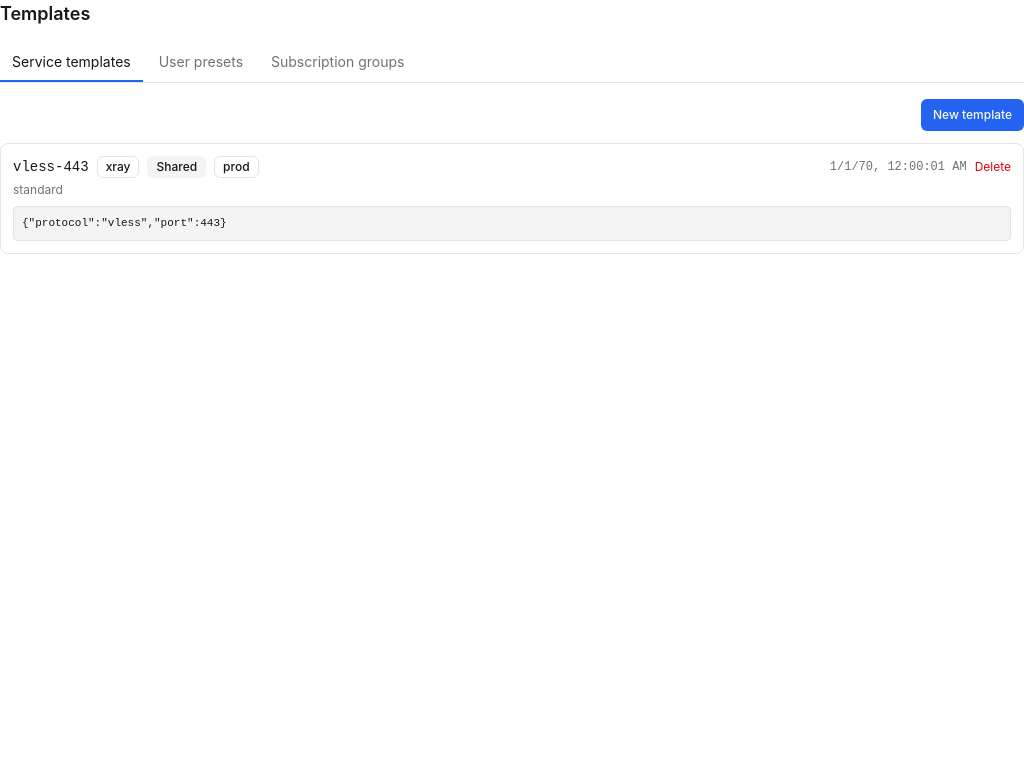
Test: service templates › refuses to submit params that are not JSON
expect the text "vless-443" is shown: met, box [13,157,89,177]
Click the button "New template". click: (972, 115)
box: [921,99,1023,131]
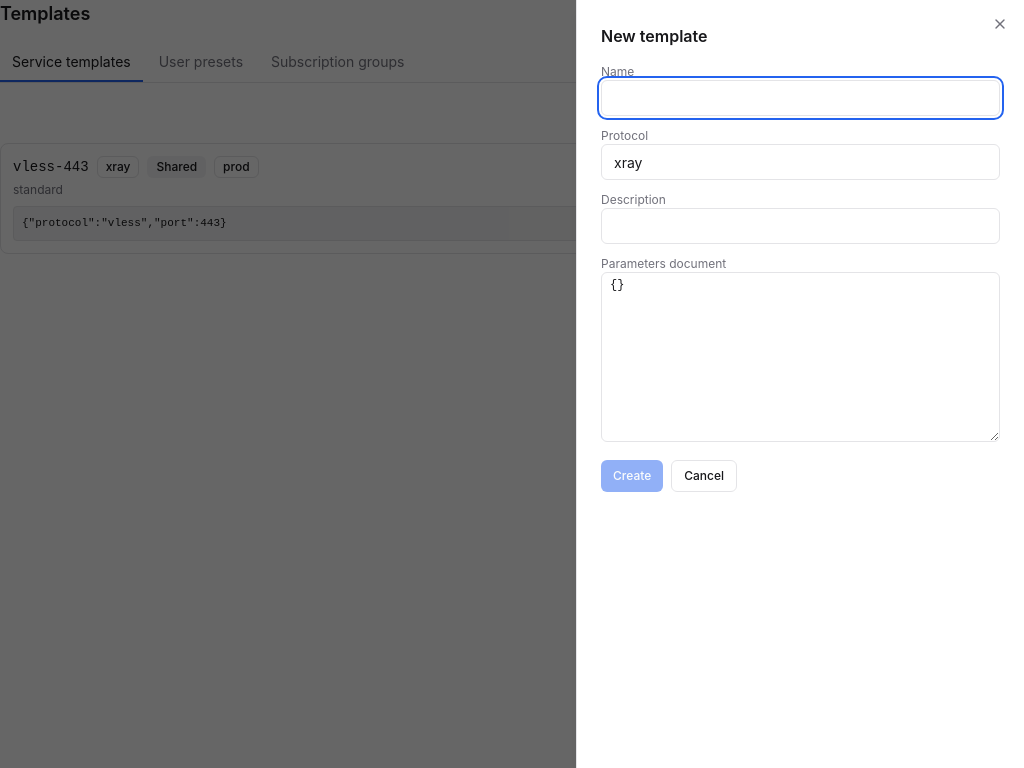
Type "broken" into the field labelled "Name". click: (800, 98)
box: [601,80,1000,116]
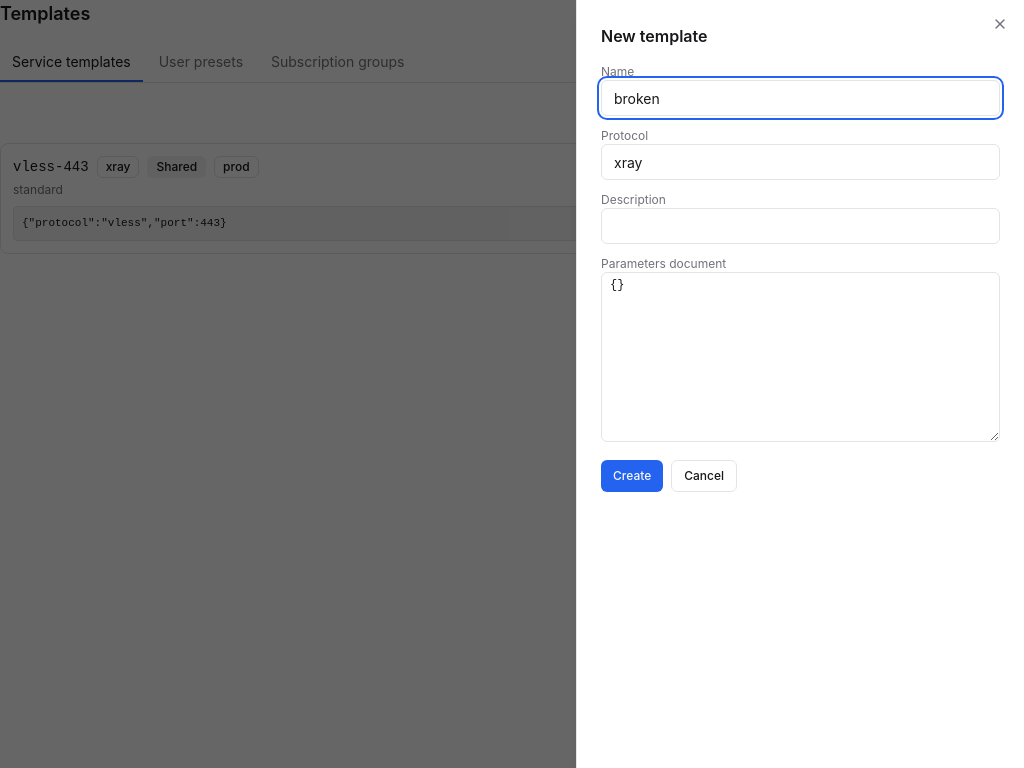
Replace the text in the text box labelled "Parameters document" with "not json at all". click: (800, 357)
box: [601,272,1000,442]
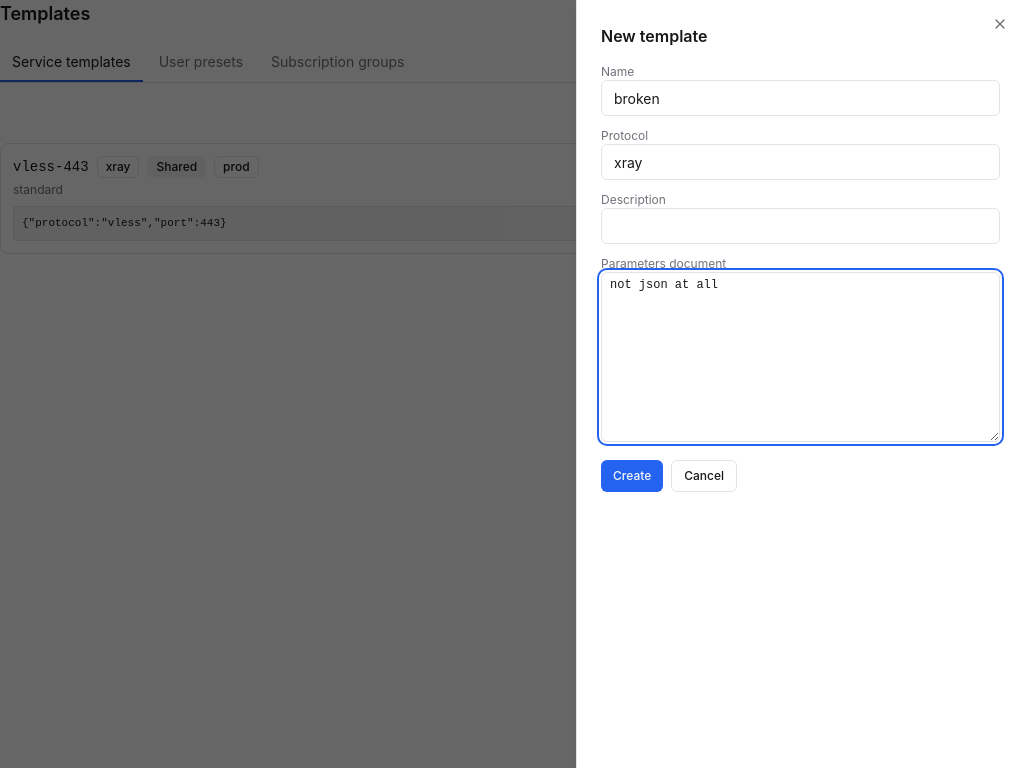
Click the button "Create". click: (632, 476)
box: [601,460,663,492]
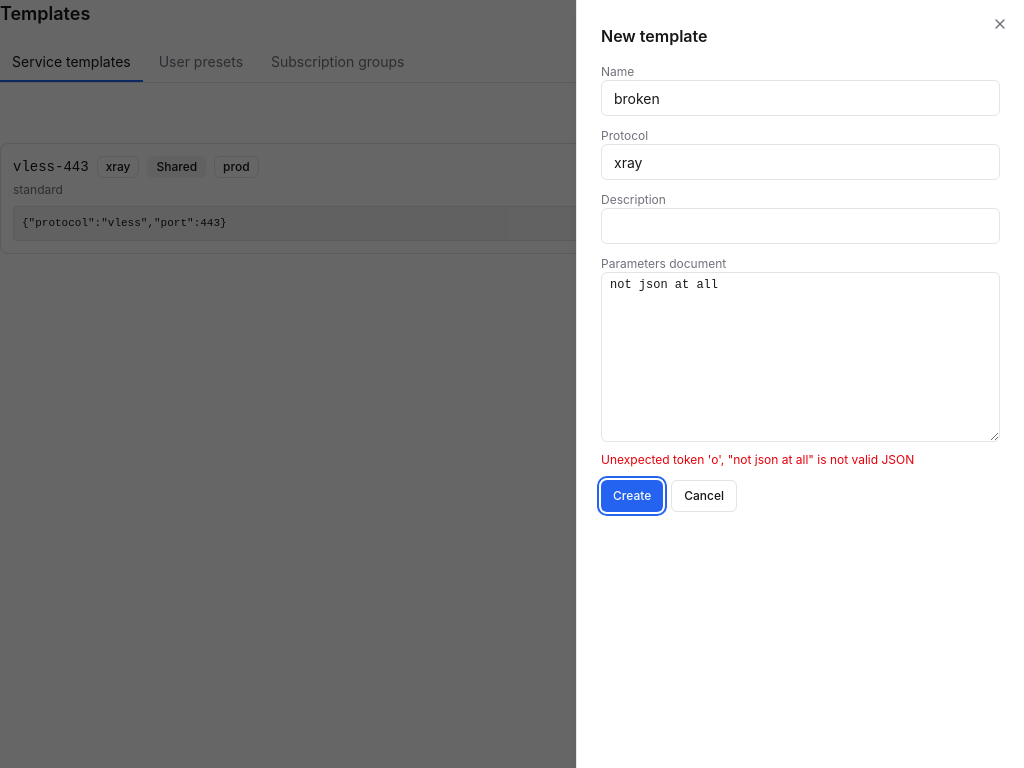
expect the message is shown: met, box [601,452,914,467]
